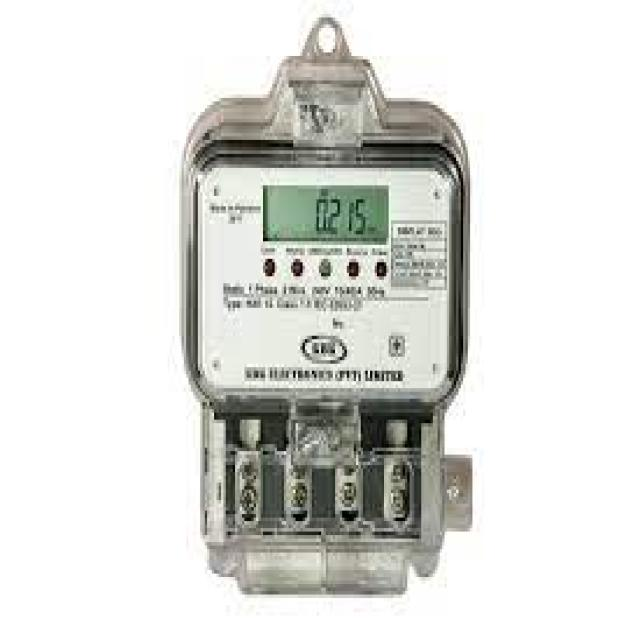0: (314, 195, 327, 234)
1: (345, 194, 355, 237)
2: (328, 194, 341, 234)
5: (354, 196, 368, 235)
Digital meter: (264, 185, 390, 244)
